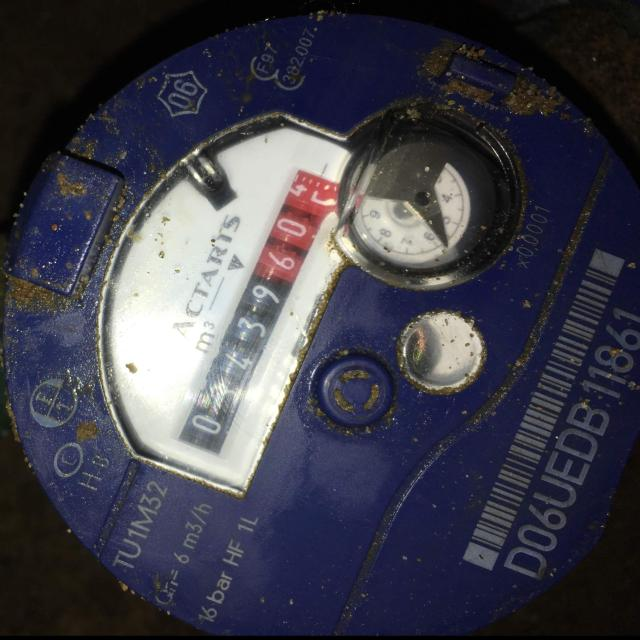gaz_meter: (5, 46, 635, 624)
indication: (173, 166, 348, 462)
